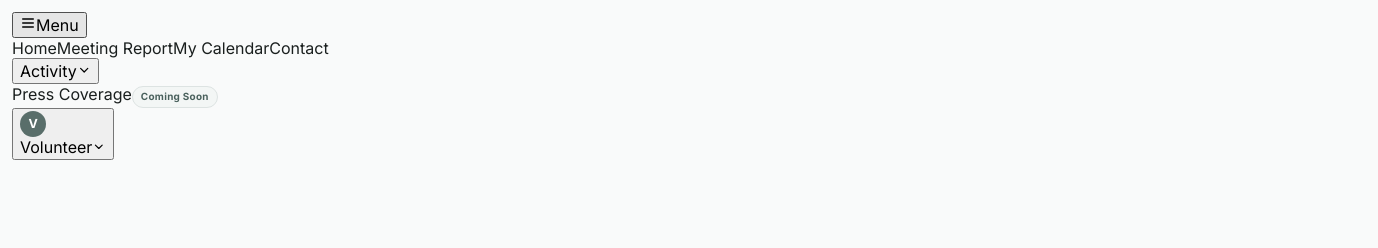
Test: opens the account menu from the role badge with Profile and Sign out actions
Click the button with aria-label "Account menu for Volunteer".
click(63, 134)  # box x1=12 y1=108 x2=114 y2=160
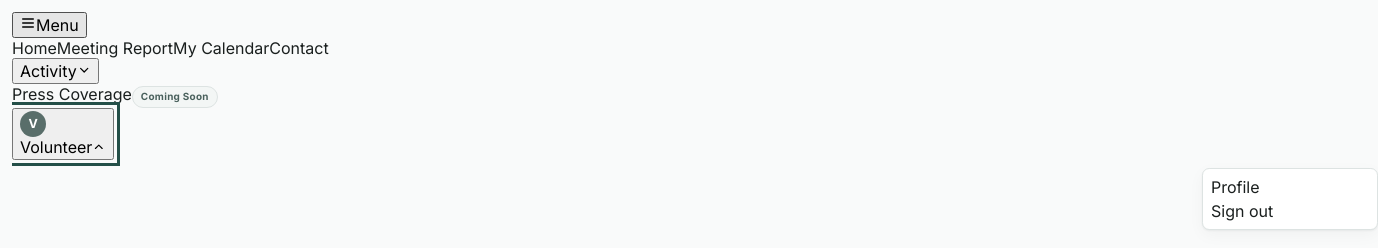
Check: the button with aria-label "Account menu for Volunteer" is expanded, box x1=12 y1=108 x2=114 y2=160
